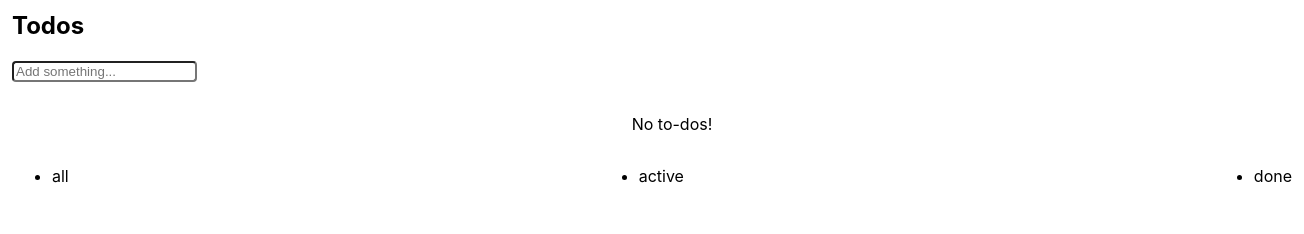
Test: Todo › adds a new to-do
This screenshot has width=1304, height=234.
Expected: the text "No to-dos!" is shown, [632,114,712,134]
Type "My todo item" into the field with placeholder "Add something..." at (104, 71), box [12,61,197,82]
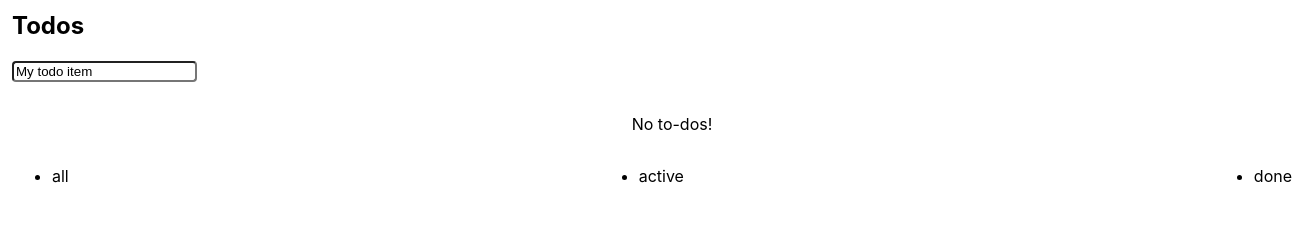
Press Enter in the field with placeholder "Add something...", box [12,61,197,82]
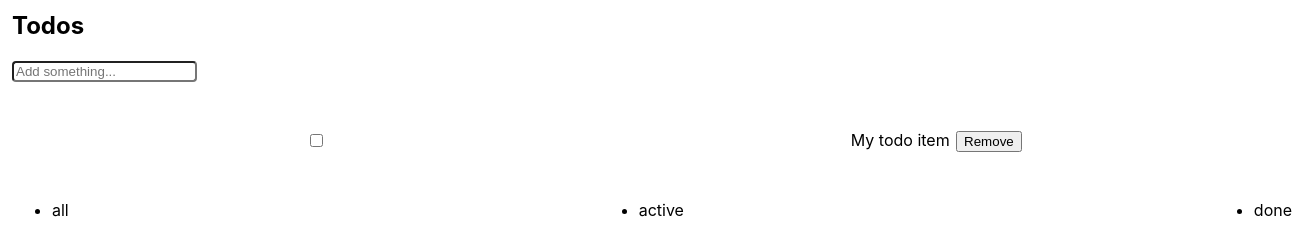
Result: the field with placeholder "Add something..." is empty at [12,61,197,82]
Result: the text "My todo item" is shown at [851,130,950,150]
